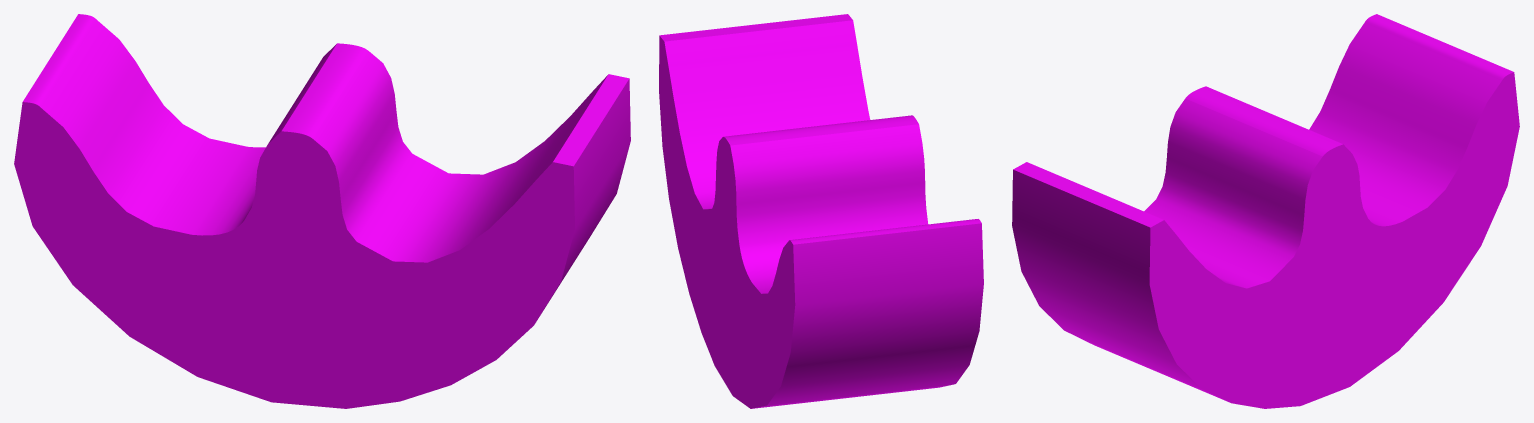
Rendered from 012-wanju01.FBX.
3 views of the same model, side by side, from view 1: azimuth 30°, elevation 25°; view 2: azimuth 150°, elevation 25°; view 3: azimuth 270°, elevation 25° (orthographic). The views are drawn at different scales.
Visible parts, largest first — view 1: 012-wanju01; view 2: 012-wanju01; view 3: 012-wanju01.
Boxes of the visible parts, box(x1,y1,x2,y2) form: 012-wanju01: box(14, 14, 630, 408); 012-wanju01: box(659, 14, 983, 408); 012-wanju01: box(1012, 14, 1519, 408).
Bounding box in the file's own units: 49.99 × 26.69 × 49.99.
